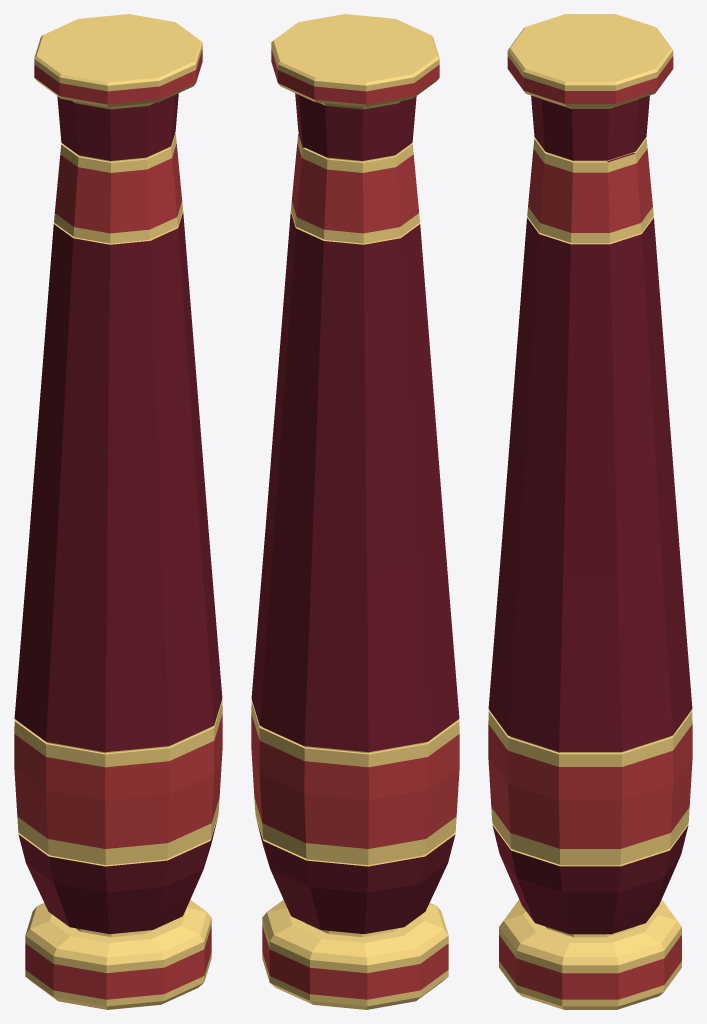
Rendered from pillar_002_grp.fbx.
The picture shows the model from 3 angles, left to right: view 1: azimuth 30°, elevation 25°; view 2: azimuth 150°, elevation 25°; view 3: azimuth 270°, elevation 25°; orthographic projection.
Visible parts, largest first — view 1: pillar_002_grp; view 2: pillar_002_grp; view 3: pillar_002_grp.
Boxes of the visible parts, left/top/right/bottom form: pillar_002_grp: left=14, top=14, right=222, bottom=1009; pillar_002_grp: left=251, top=14, right=459, bottom=1009; pillar_002_grp: left=488, top=14, right=692, bottom=1009.
Size of the model in its own units: 80 by 400 by 80.
